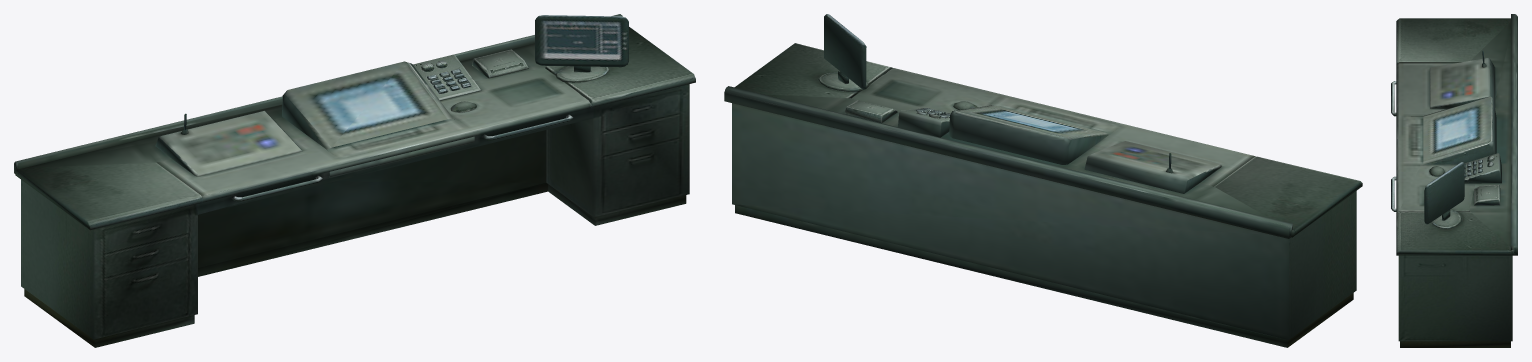
File: sci_desk1.fbx
The picture shows the model from 3 angles, left to right: view 1: azimuth 30°, elevation 25°; view 2: azimuth 150°, elevation 25°; view 3: azimuth 270°, elevation 25°; orthographic projection. The views are drawn at different scales.
Parts seen in each view (by area): view 1: tripo_node_f626d727.002; view 2: tripo_node_f626d727.002; view 3: tripo_node_f626d727.002.
Boxes of the visible parts, x1,y1,x2,y2 form: tripo_node_f626d727.002: (14, 14, 695, 347); tripo_node_f626d727.002: (724, 14, 1362, 347); tripo_node_f626d727.002: (1391, 14, 1517, 347).
Size of the model in its own units: 493 by 144 by 114.
